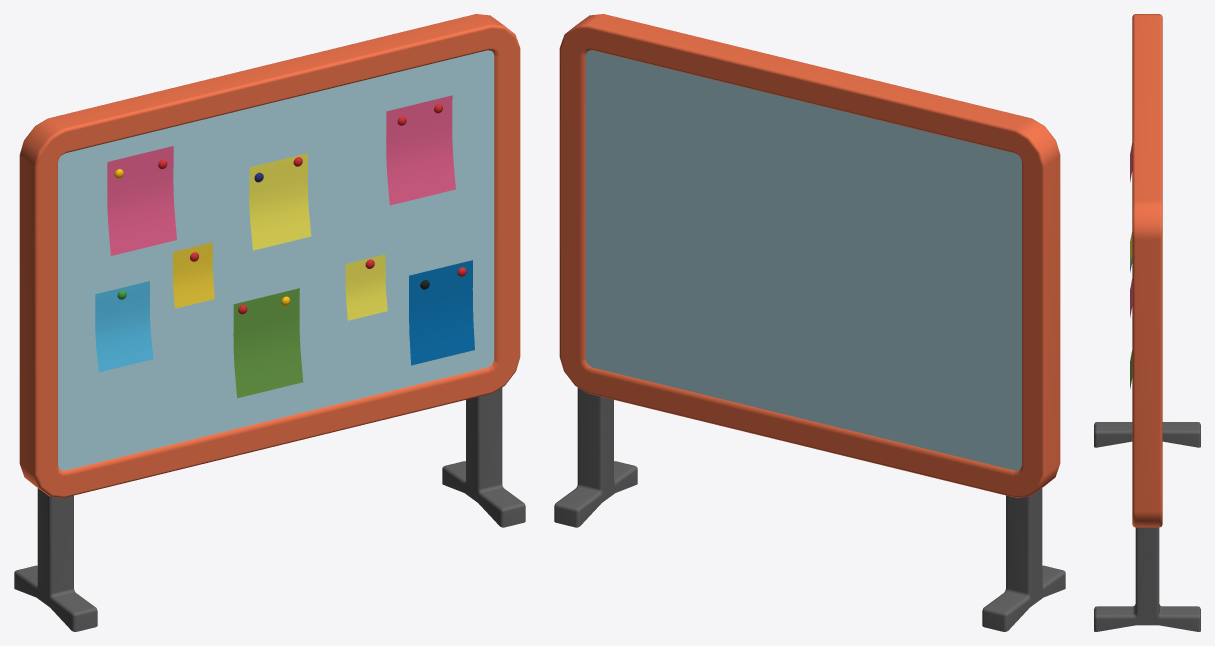
Rendered from Corwd_NoticeBoard_01.fbx.
3 views of the same model, side by side, from view 1: azimuth 30°, elevation 25°; view 2: azimuth 150°, elevation 25°; view 3: azimuth 270°, elevation 25° (orthographic). The views are drawn at different scales.
Visible parts, largest first — view 1: Corwd_NoticeBoard_01; view 2: Corwd_NoticeBoard_01; view 3: Corwd_NoticeBoard_01.
Part boxes in pixels (x1,y1,x2,y2): Corwd_NoticeBoard_01: (14, 14, 525, 631); Corwd_NoticeBoard_01: (554, 14, 1065, 631); Corwd_NoticeBoard_01: (1094, 14, 1200, 631).
Size of the model in its own units: 306 by 291 by 65.92.
